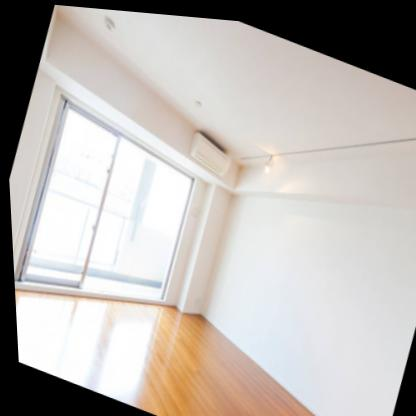Window: (11, 89, 193, 300)
Wooden floor: (12, 290, 318, 416)
